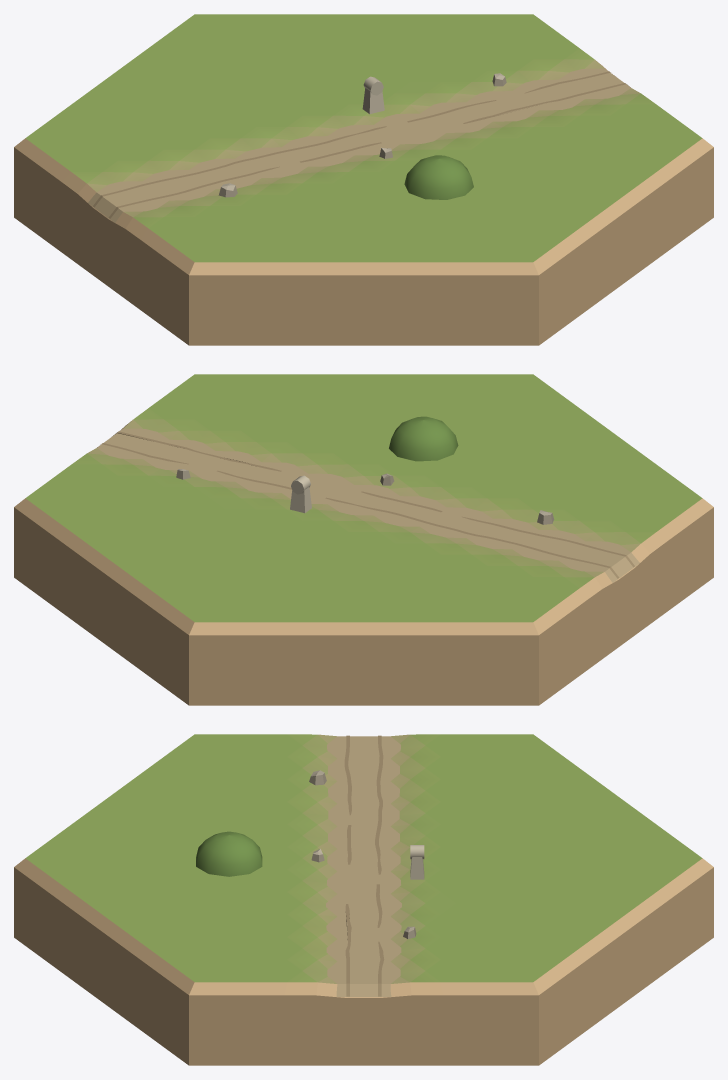
File: road_straight_2.fbx
The picture shows the model from 3 angles, top to bottom: view 1: azimuth 30°, elevation 25°; view 2: azimuth 150°, elevation 25°; view 3: azimuth 270°, elevation 25°; orthographic projection.
Visible parts, largest first — view 1: road_straight_2; view 2: road_straight_2; view 3: road_straight_2.
Boxes of the visible parts, box(x1,y1,x2,y2) form: road_straight_2: box(14, 14, 713, 345); road_straight_2: box(14, 374, 713, 705); road_straight_2: box(14, 734, 713, 1065).
Size of the model in its own units: 1.73 by 0.347 by 2.
